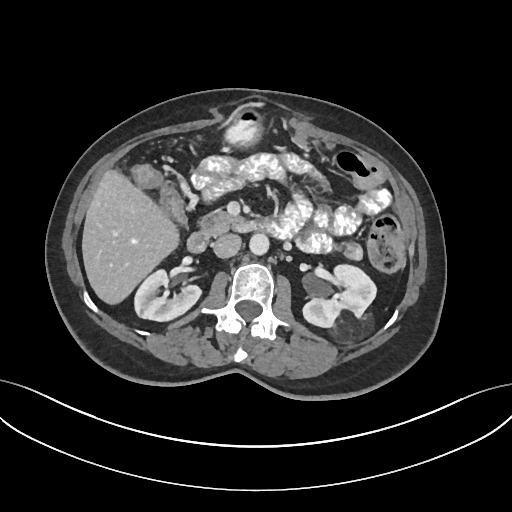Lesion: (329, 308, 377, 346)
